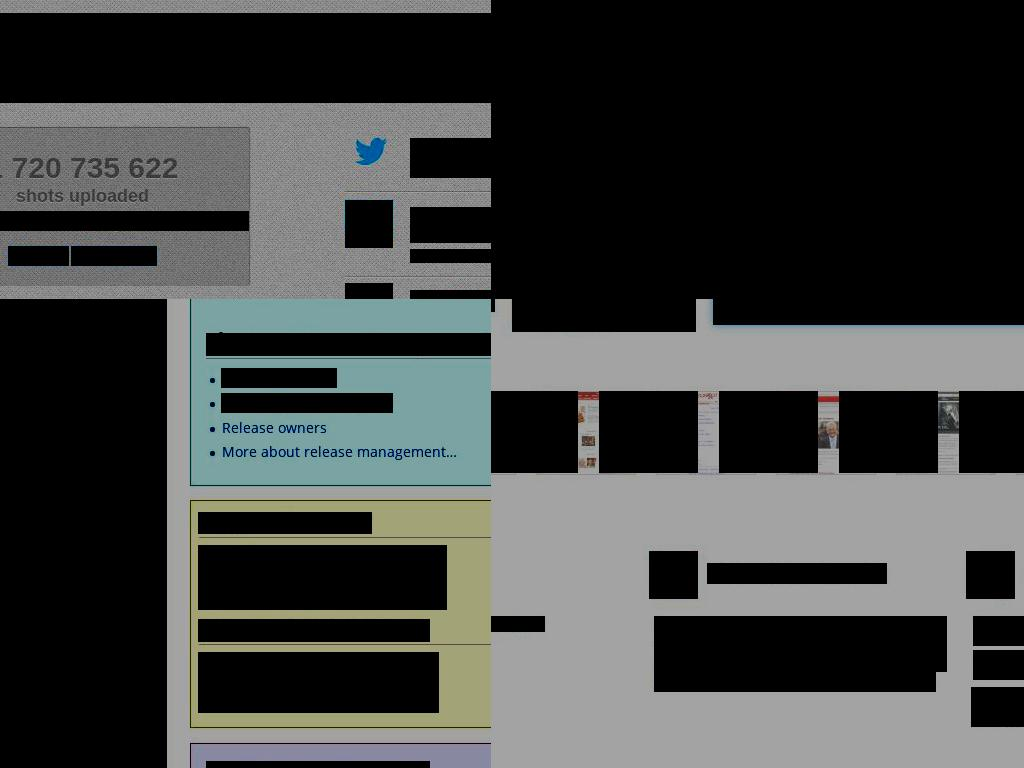button: (806, 72, 1024, 122), (512, 316, 696, 332), (973, 650, 1024, 680)
field: (491, 72, 791, 122), (713, 299, 1024, 325), (973, 616, 1024, 646)
heading: (0, 299, 167, 768), (491, 22, 1024, 52), (491, 34, 1024, 57), (206, 333, 491, 356), (491, 0, 1024, 12), (198, 619, 430, 642), (198, 512, 372, 534), (4, 341, 141, 358), (4, 480, 141, 497), (4, 587, 141, 604), (4, 726, 141, 743), (206, 761, 430, 768)
iframe: (0, 13, 491, 103), (71, 246, 157, 266), (8, 246, 69, 266)
image: (491, 0, 1024, 299), (494, 82, 734, 247), (744, 82, 984, 247), (198, 545, 447, 610), (198, 652, 439, 713), (599, 391, 698, 473), (719, 391, 818, 473), (839, 391, 938, 473), (491, 391, 578, 473), (512, 299, 696, 329), (959, 391, 1024, 473), (649, 551, 698, 599), (966, 551, 1015, 599), (345, 200, 393, 248), (345, 283, 393, 299)
link: (654, 656, 936, 692), (221, 441, 457, 461), (221, 393, 393, 413), (21, 627, 123, 657), (21, 438, 99, 468), (221, 368, 337, 388), (221, 417, 327, 437), (21, 400, 138, 417), (21, 362, 123, 379), (21, 558, 117, 575), (21, 381, 109, 398), (21, 608, 109, 625), (21, 747, 108, 764), (21, 659, 100, 676), (21, 419, 92, 436), (21, 678, 90, 695), (432, 207, 491, 223), (21, 697, 74, 714), (491, 616, 545, 632), (9, 299, 87, 310), (21, 539, 64, 556), (21, 501, 55, 518), (21, 520, 54, 537), (432, 290, 491, 299), (782, 293, 865, 299), (946, 293, 1024, 299), (9, 312, 36, 329), (869, 293, 942, 299)
text: (491, 227, 720, 299), (654, 616, 947, 672), (491, 147, 1024, 174), (0, 158, 249, 178), (0, 211, 249, 231), (806, 257, 932, 289), (805, 227, 932, 258), (707, 563, 887, 584), (491, 275, 634, 299), (15, 186, 149, 206), (410, 249, 485, 263), (410, 207, 432, 223), (410, 290, 432, 299)
